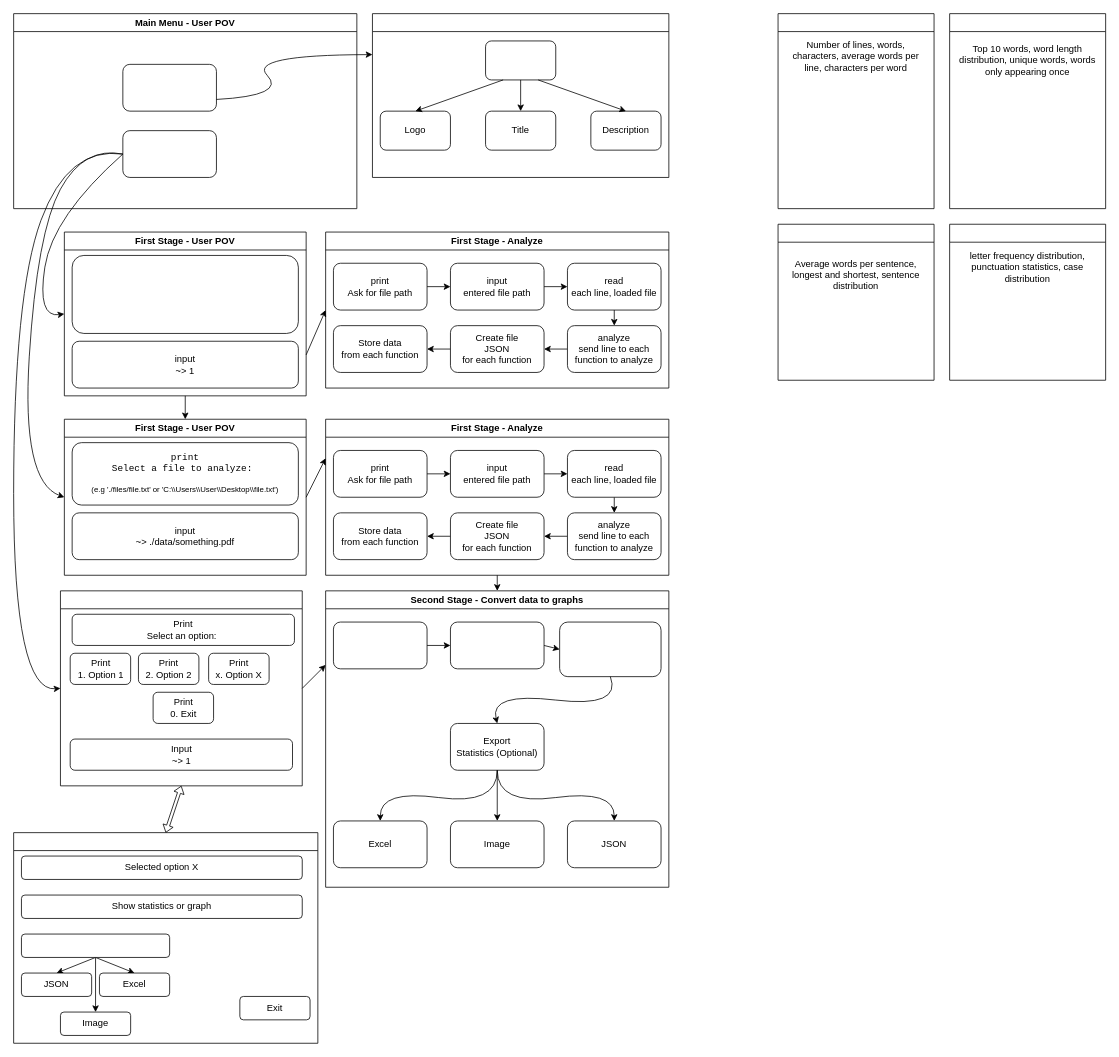
Image size: 1119x1057. Some labels were removed from this diagram. Each missing label, with the box of its shape:
Export button: (21, 933, 170, 957)
GRADE A: (949, 223, 1106, 380)
GRADE B: (777, 223, 934, 380)
GRADE C: (949, 13, 1106, 209)
GRADE E: (777, 13, 934, 209)
graph using numpy and matplotlib: (450, 621, 544, 669)
Last Stage - User POV: (13, 832, 318, 1043)
Meta Data: (372, 13, 669, 177)
Print: (485, 40, 556, 80)
print 1. path 1 2. path 2 x. path x 0. Exit: (71, 255, 298, 333)
Read data from JSON for each function: (333, 621, 427, 669)
Second Stage - User POV: (60, 590, 302, 786)
Show/print Current Stage: (122, 130, 216, 177)
Show/print Meta Data: (122, 64, 216, 111)
Showcase show the graph/statistics to the user: (559, 621, 661, 677)
